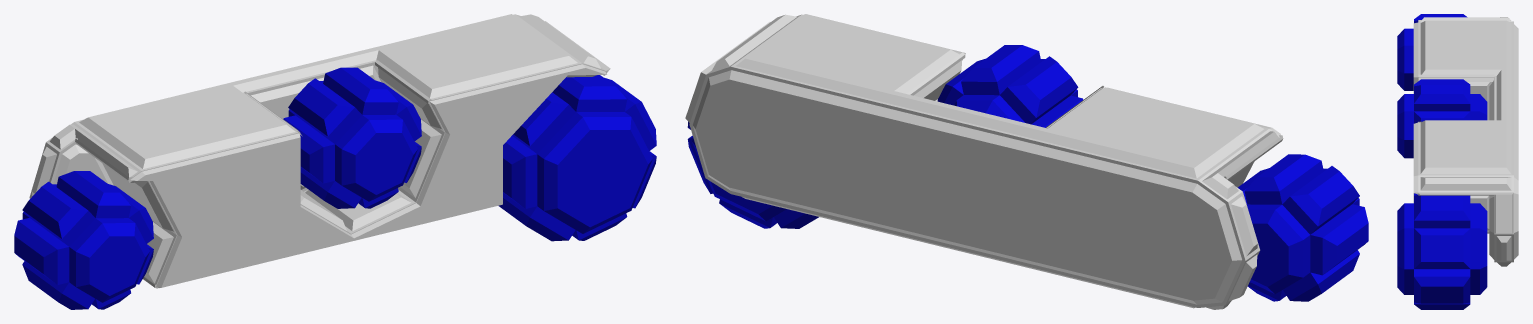
Rendered from Ch_China_一_01.fbx.
3 views of the same model, side by side, from view 1: azimuth 30°, elevation 25°; view 2: azimuth 150°, elevation 25°; view 3: azimuth 270°, elevation 25° (orthographic). The views are drawn at different scales.
Visible parts, largest first — view 1: sphere1; view 2: sphere1; view 3: sphere1.
Part boxes in pixels (left/top/right/bottom): sphere1: left=14, top=14, right=656, bottom=309; sphere1: left=685, top=14, right=1368, bottom=309; sphere1: left=1397, top=14, right=1518, bottom=309.
Bounding box in the file's own units: 1.05 × 0.3346 × 0.2541.
